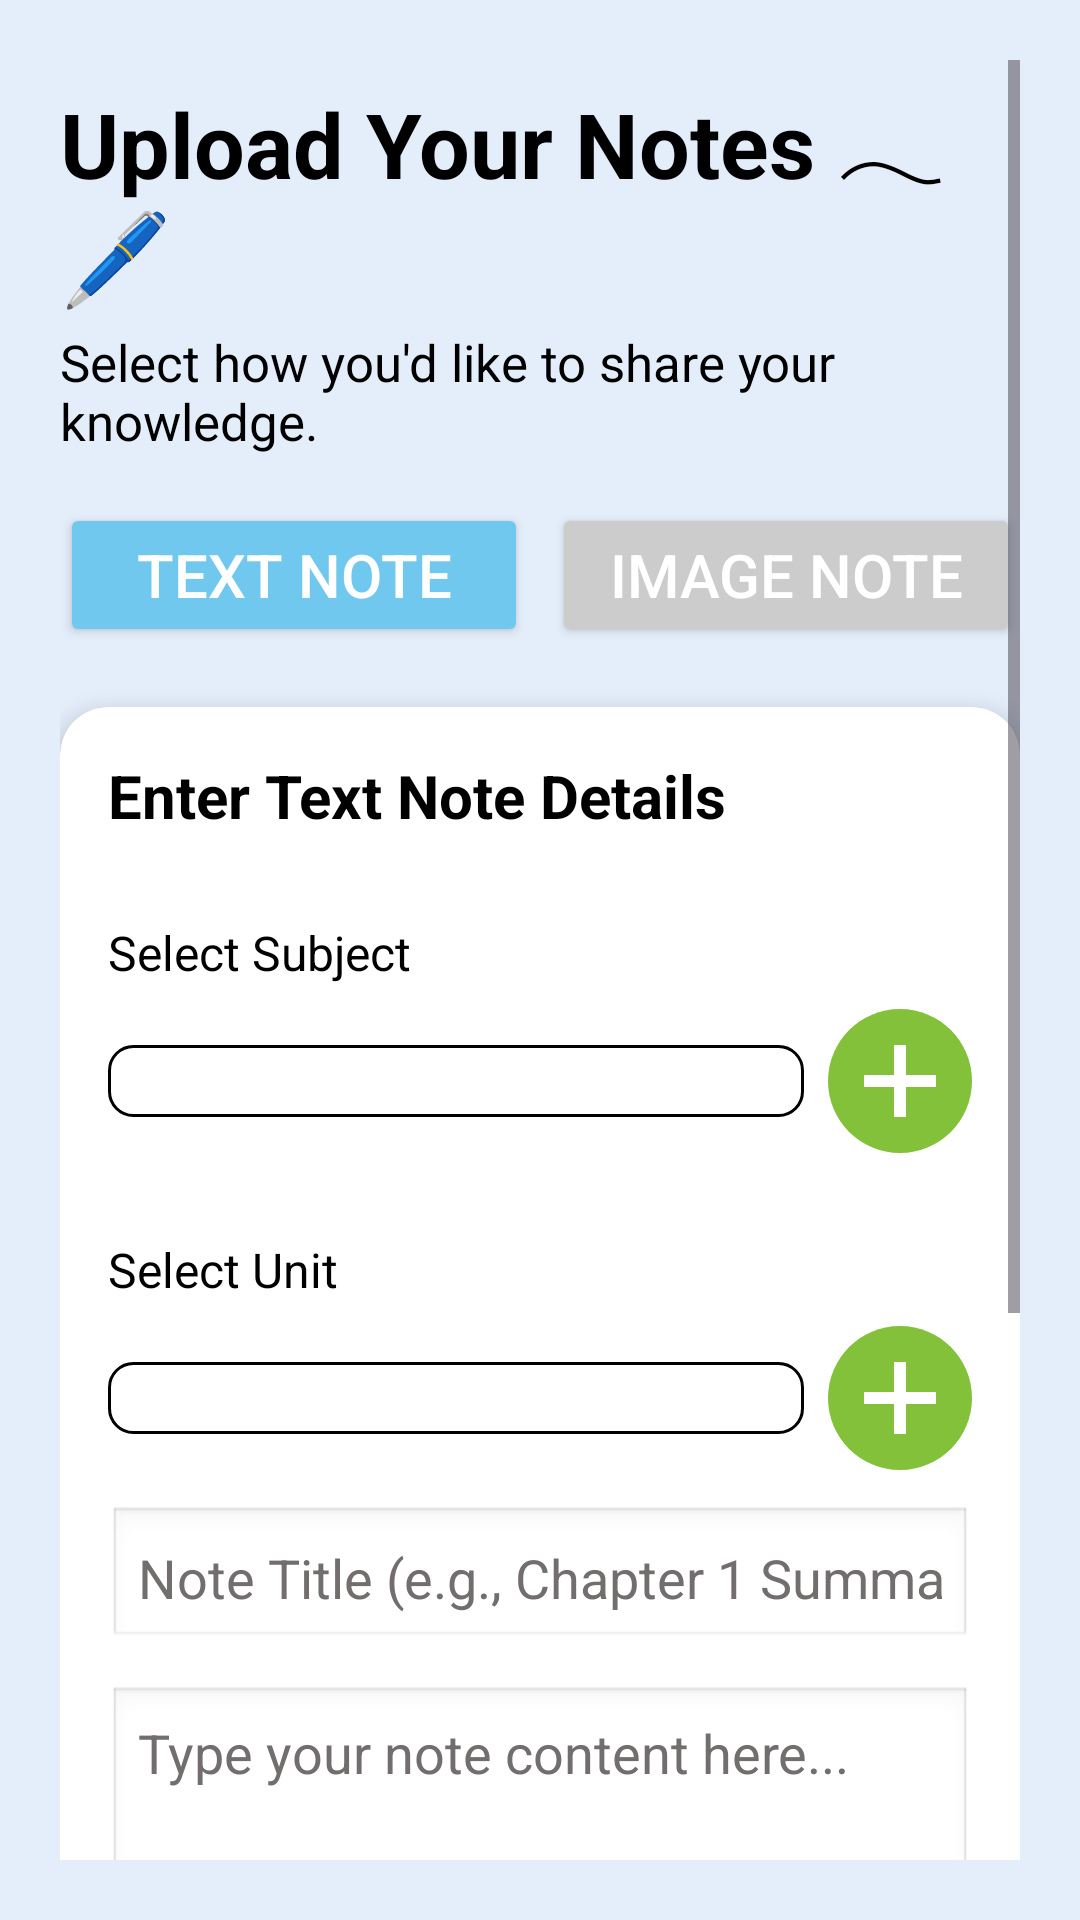

Screen size 1080px x 1920px. Icon name, then its box in pixels as box(x1, y1, x2, y2):
Add Subject: box(828, 1009, 972, 1153)
Add Unit: box(828, 1326, 972, 1470)
